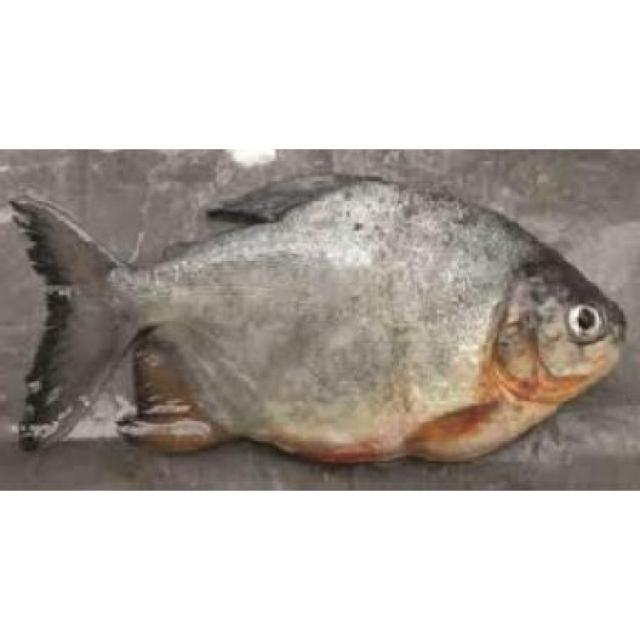ikan-pacu: (14, 164, 628, 463)
